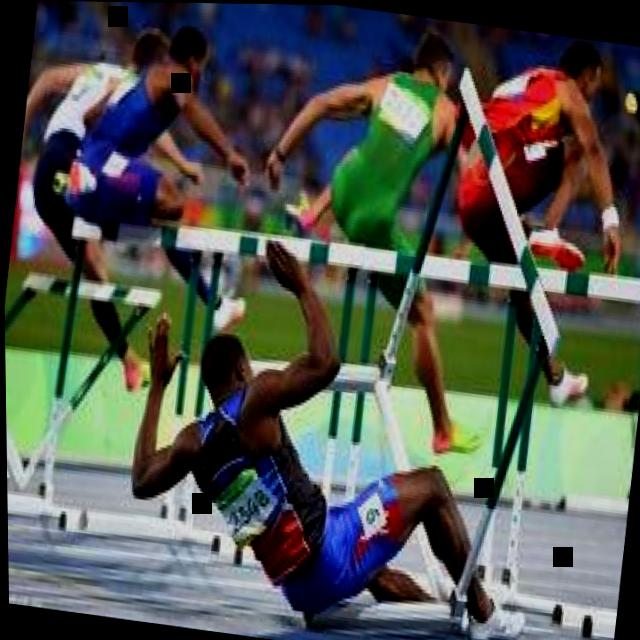Fall-Detected: (84, 214, 581, 640)
